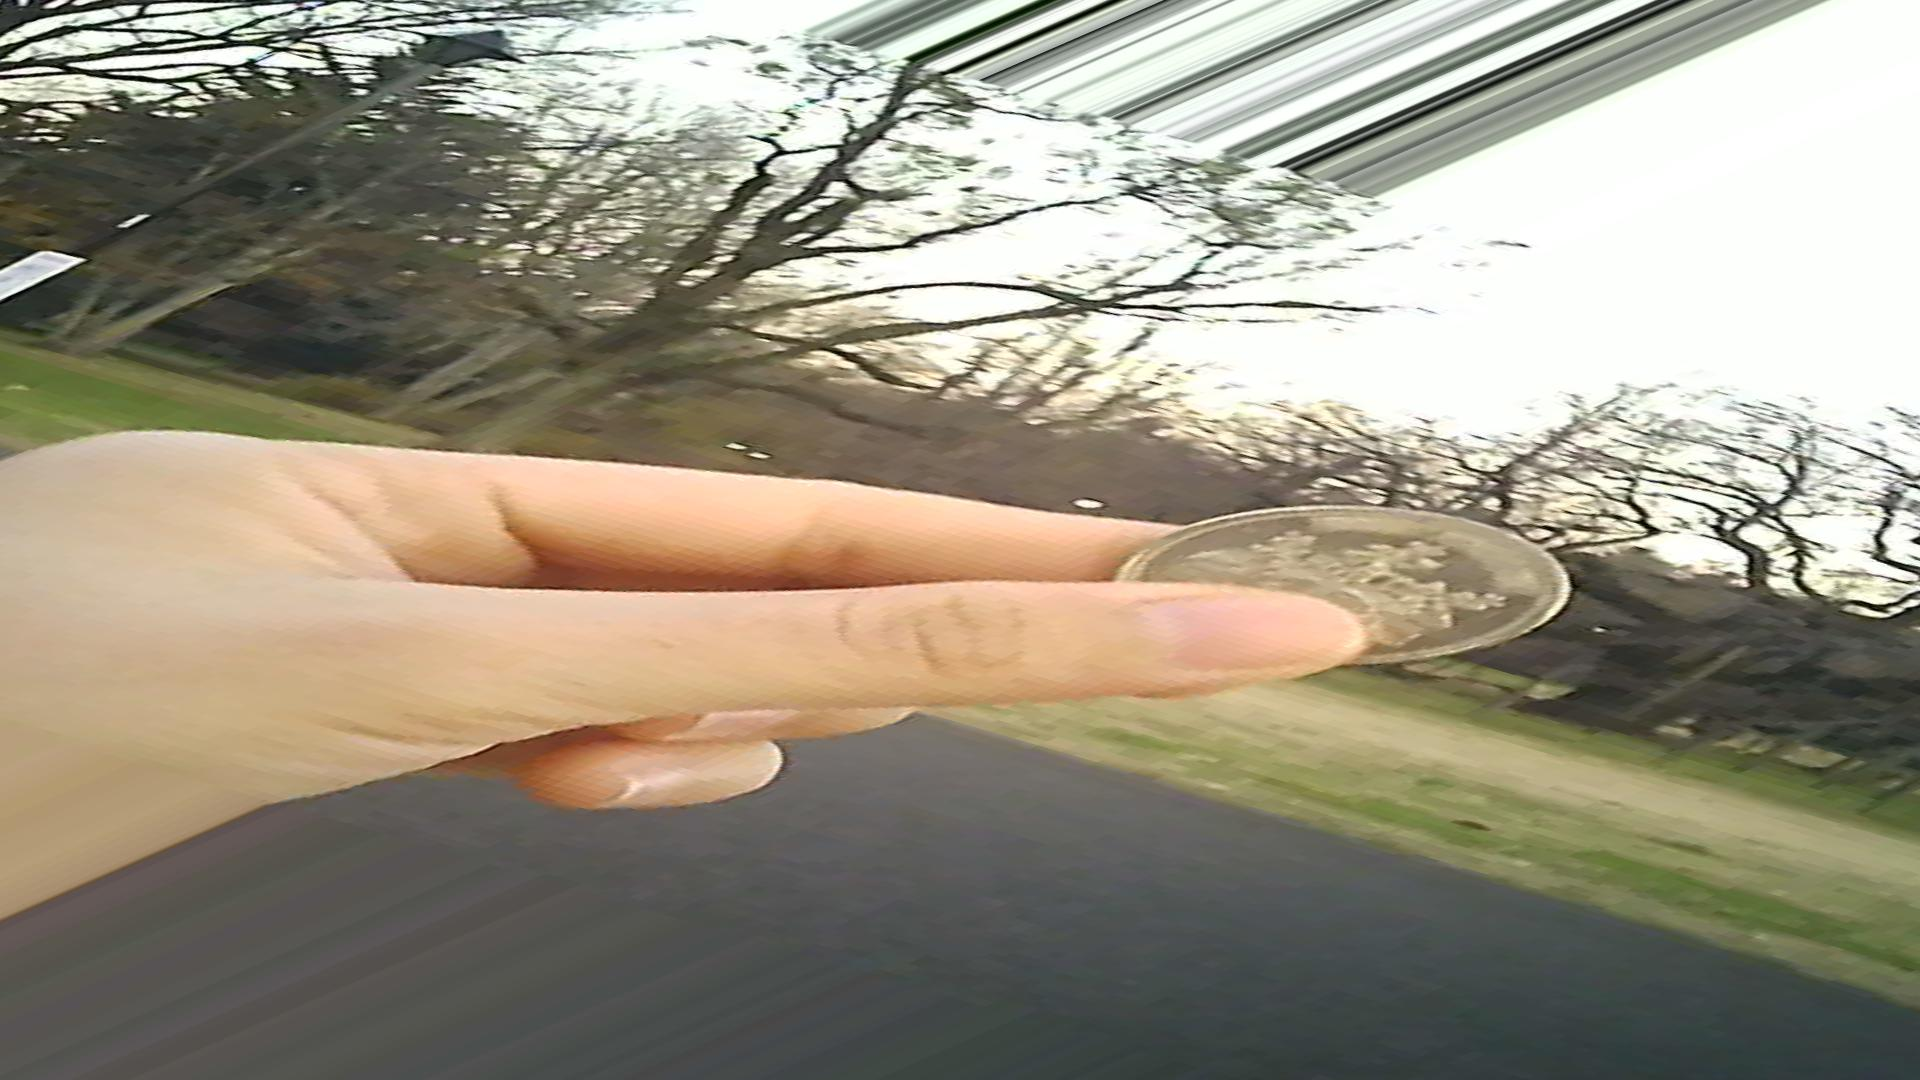500 Yen: (1114, 491, 1573, 682)
